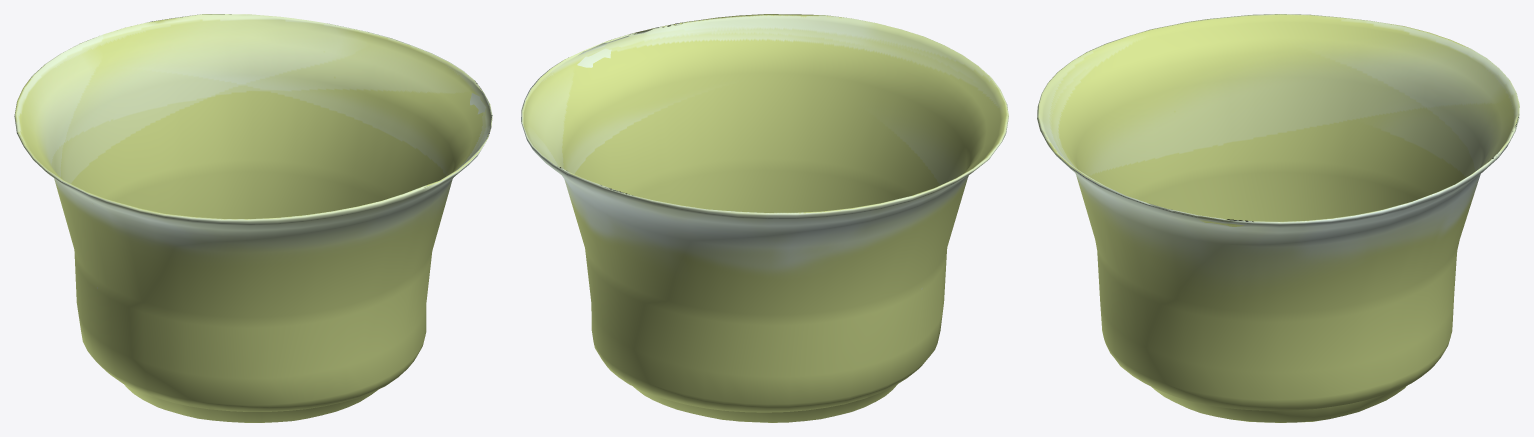
The model's file is sdasad3.glb.
3 views of the same model, side by side, from view 1: azimuth 30°, elevation 25°; view 2: azimuth 150°, elevation 25°; view 3: azimuth 270°, elevation 25° (orthographic).
Parts seen in each view (by area): view 1: material.006, material.005; view 2: material.006, material.005; view 3: material.006, material.005.
Boxes of the visible parts, x1,y1,x2,y2 form: material.006: (14,14,492,411); material.005: (124,384,378,422); material.006: (521,14,1008,412); material.005: (633,384,897,422); material.006: (1037,14,1519,410); material.005: (1152,385,1407,422).
Bounding box in the file's own units: 1.9 × 1.11 × 1.88.
Materials: 2 (2 with a texture image).
